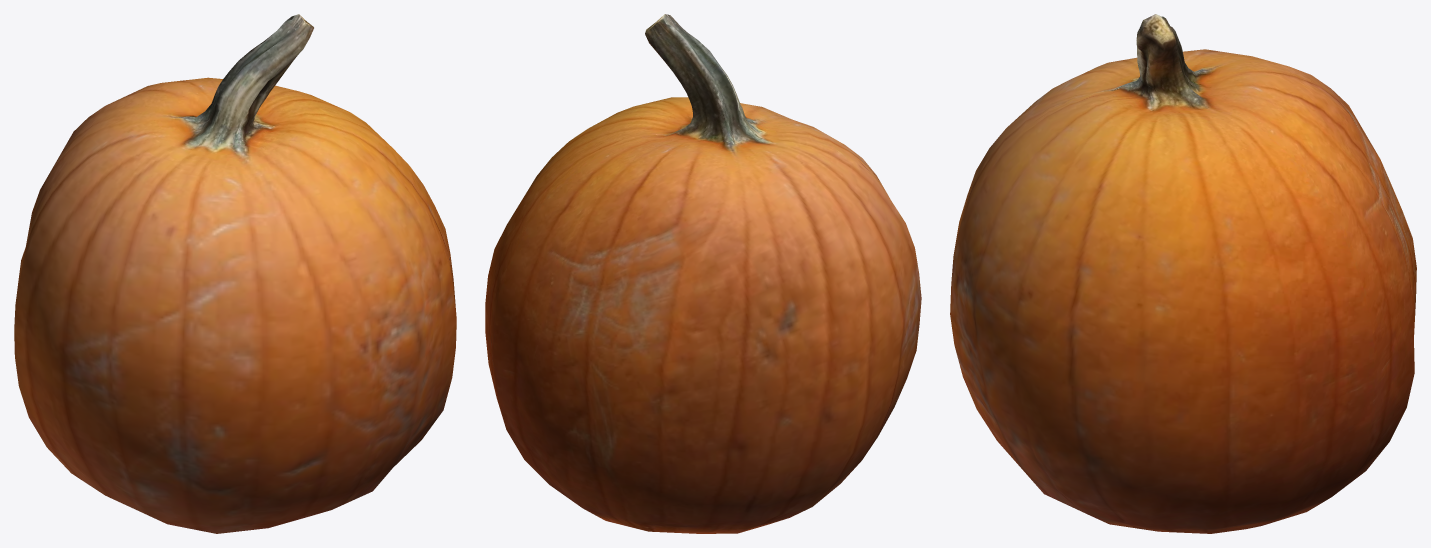
The model's file is pumpkin.e8702c25fd.glb.
3 renders of one model, left to right at view 1: azimuth 30°, elevation 25°; view 2: azimuth 150°, elevation 25°; view 3: azimuth 270°, elevation 25°, orthographic. The views are drawn at different scales.
Visible parts, largest first — view 1: pumpkin; view 2: pumpkin; view 3: pumpkin.
Boxes of the visible parts, box(x1,y1,x2,y2) form: pumpkin: box(14, 14, 456, 533); pumpkin: box(485, 14, 921, 533); pumpkin: box(950, 14, 1416, 533).
Size of the model in its own units: 0.3556 by 0.42 by 0.3519.
Materials: 1 (1 with a texture image).
